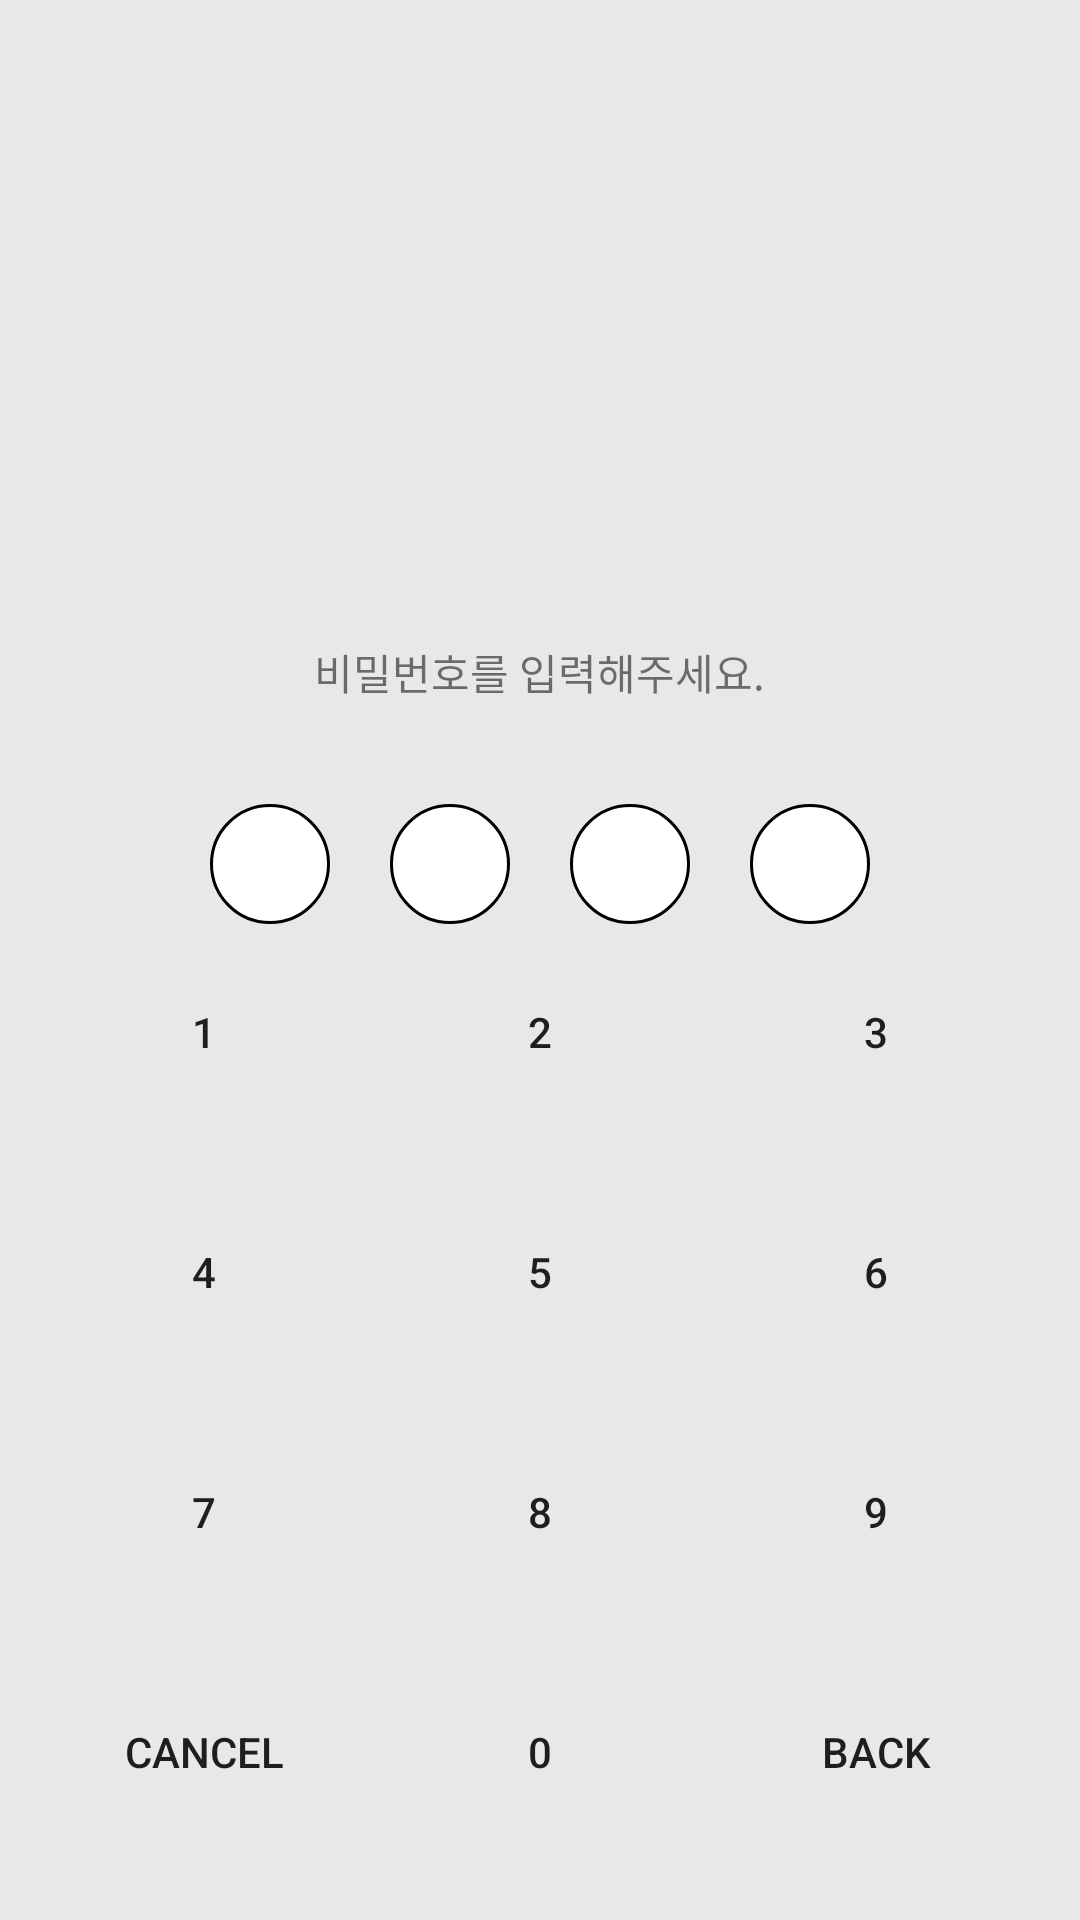

Screen size 1080px x 1920px. Icon name, then its box in pixels as (x1, y1, x2, y2):
password noinput: (210, 804, 330, 924), (390, 804, 510, 924), (570, 804, 690, 924), (750, 804, 870, 924)
